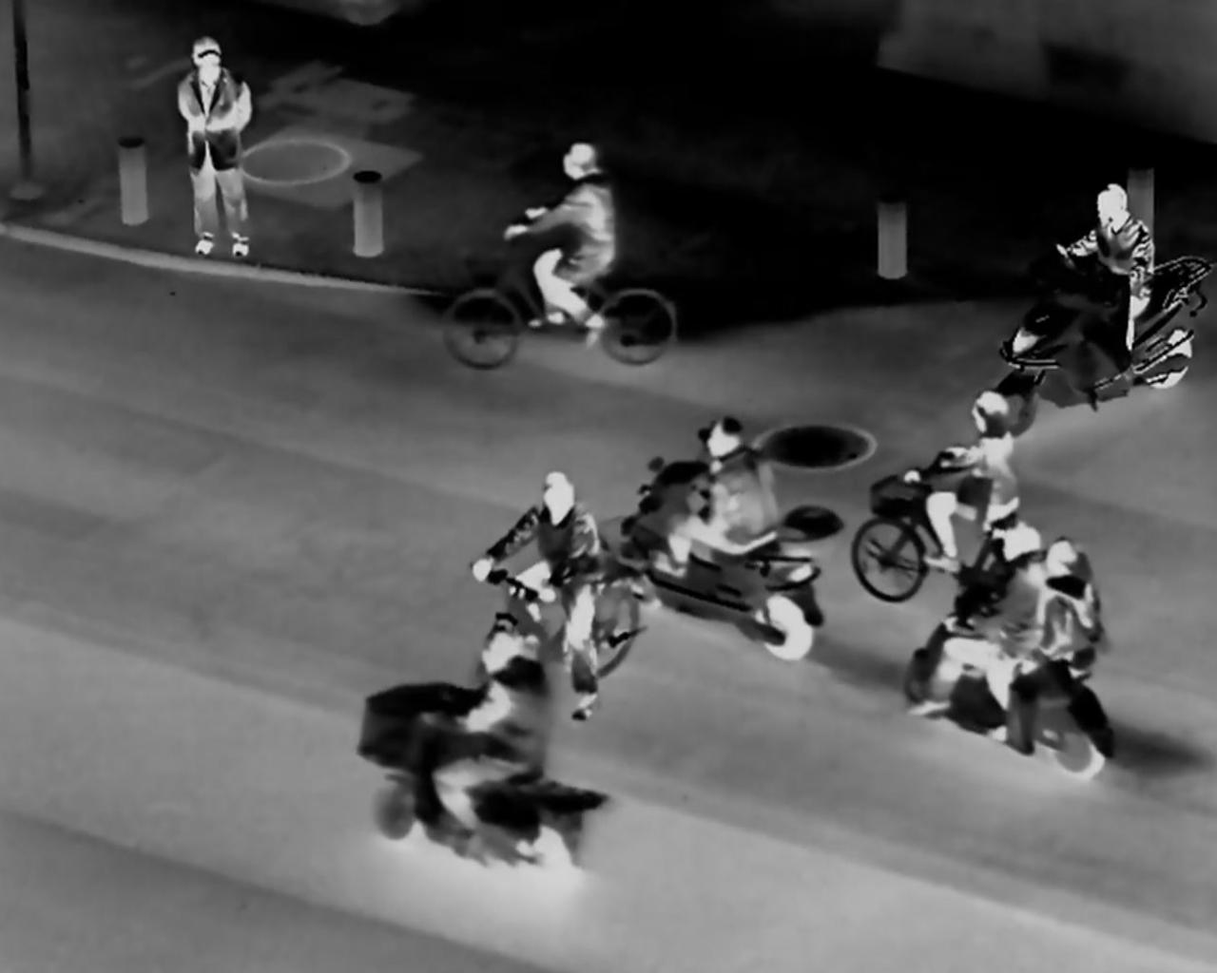person: (475, 450, 618, 669), (510, 124, 636, 351), (429, 621, 551, 853), (912, 527, 1047, 728), (162, 29, 274, 271), (974, 537, 1104, 740), (658, 410, 788, 582), (925, 392, 1023, 571), (1059, 170, 1153, 330)
